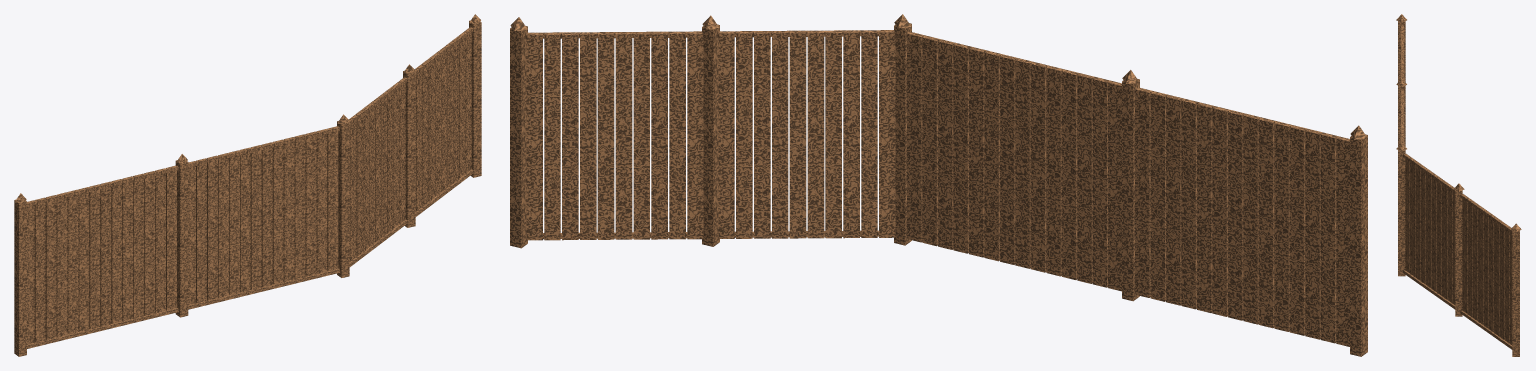
The picture shows the model from 3 angles, left to right: view 1: azimuth 30°, elevation 25°; view 2: azimuth 150°, elevation 25°; view 3: azimuth 270°, elevation 25°; orthographic projection. The views are drawn at different scales.
Parts seen in each view (by area): view 1: presentation (×9), wall.timber_fence; view 2: presentation (×9), wall.timber_fence; view 3: presentation (×9), wall.timber_fence.
Boxes of the visible parts, x1,y1,x2,y2 form: presentation (×9): (14,20,481,356); wall.timber_fence: (15,14,480,202); presentation (×9): (510,23,1367,356); wall.timber_fence: (510,14,1366,139); presentation (×9): (1398,21,1519,356); wall.timber_fence: (1396,14,1521,231).
Bounding box in the file's own units: 6.65 × 1.65 × 1.91.
1 material, 1 textured.
